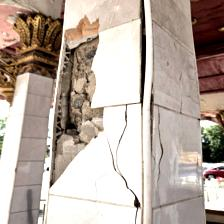High: (44, 1, 165, 224)
